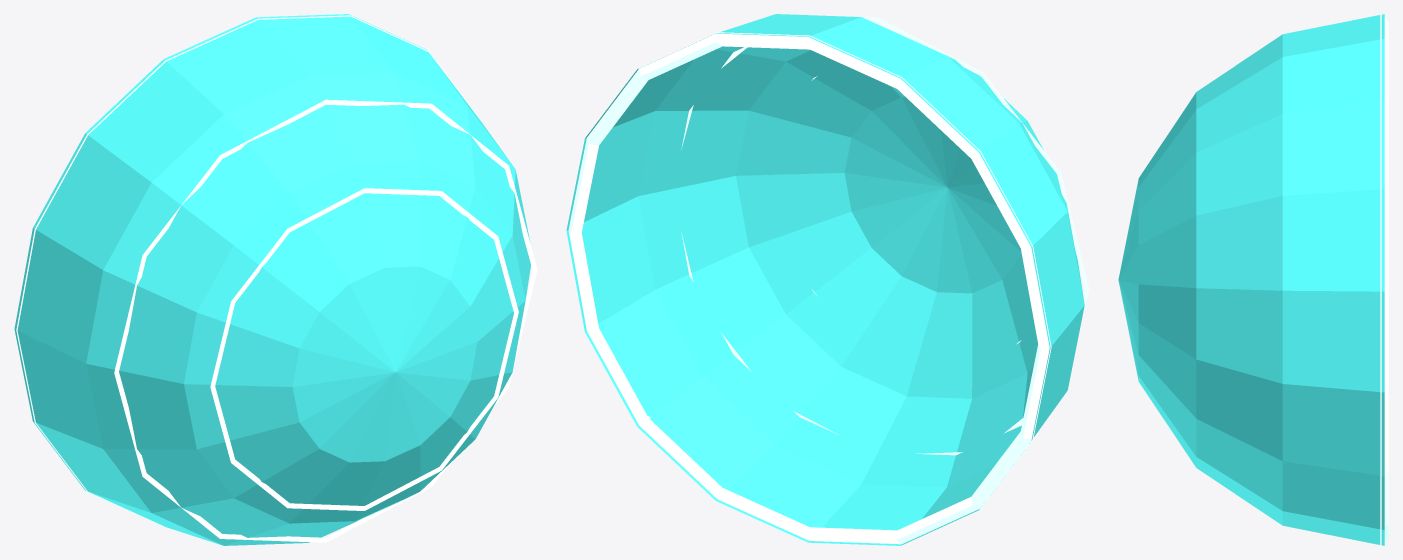
File: shieldDome.glb
3 views of the same model, side by side, from view 1: azimuth 30°, elevation 25°; view 2: azimuth 150°, elevation 25°; view 3: azimuth 270°, elevation 25° (orthographic). The views are drawn at different scales.
Parts seen in each view (by area): view 1: Shield.Pivot, Shield.Seam.00, Shield.Seam.01, Shield.Rim; view 2: Shield.Pivot, Shield.Rim, Shield.Seam.00; view 3: Shield.Pivot, Shield.Rim.
Part boxes in pixels (<box>): Shield.Pivot: <box>14,14,530,545</box>; Shield.Seam.00: <box>114,99,537,542</box>; Shield.Seam.01: <box>210,188,518,510</box>; Shield.Rim: <box>16,15,481,527</box>; Shield.Pivot: <box>566,14,1084,545</box>; Shield.Rim: <box>568,32,1051,544</box>; Shield.Seam.00: <box>681,17,1089,455</box>; Shield.Pivot: <box>1118,14,1384,545</box>; Shield.Rim: <box>1380,14,1388,545</box>.
Size of what is drawn, in the model's own units: 18 by 18 by 9.13.
